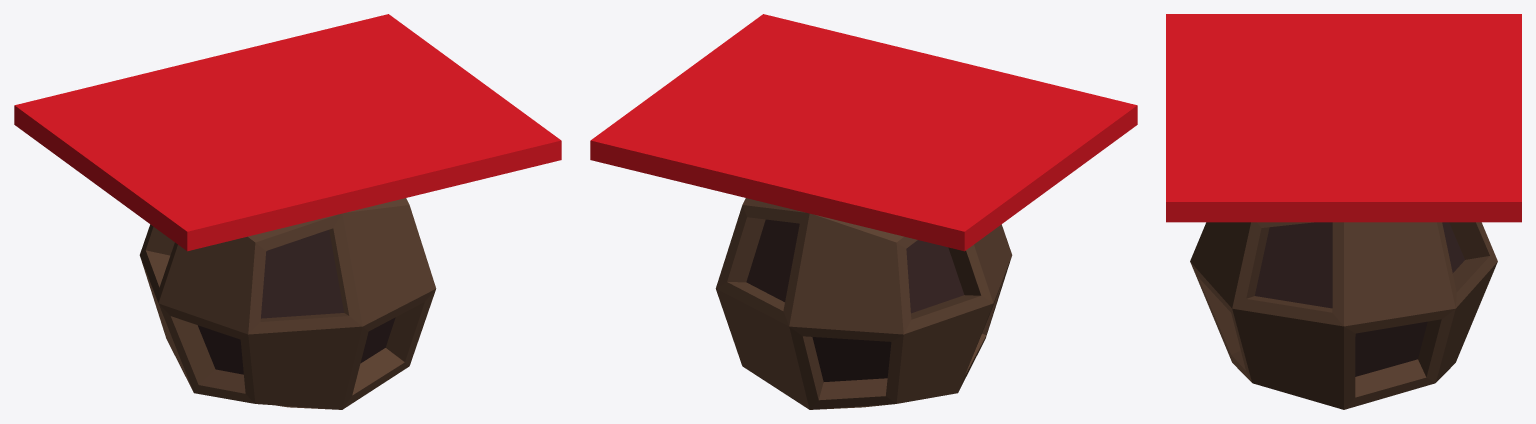
File: Cometa.fbx
The picture shows the model from 3 angles, left to right: view 1: azimuth 30°, elevation 25°; view 2: azimuth 150°, elevation 25°; view 3: azimuth 270°, elevation 25°; orthographic projection. The views are drawn at different scales.
Visible parts, largest first — view 1: Cube.089, Cube.011; view 2: Cube.089, Cube.011; view 3: Cube.089, Cube.011.
Part boxes in pixels (left/top/right/bottom): Cube.089: left=14, top=14, right=561, bottom=251; Cube.011: left=139, top=198, right=436, bottom=409; Cube.089: left=590, top=14, right=1137, bottom=251; Cube.011: left=715, top=198, right=1012, bottom=409; Cube.089: left=1166, top=14, right=1521, bottom=222; Cube.011: left=1190, top=222, right=1497, bottom=409.
Size of the model in its own units: 563 by 409 by 450.
